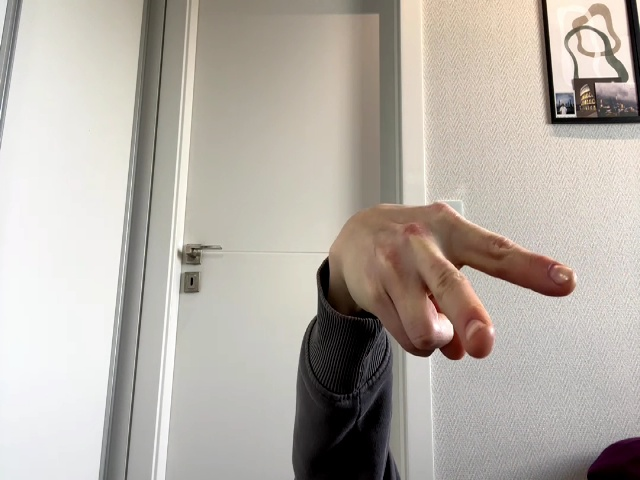U: (332, 202, 578, 359)
